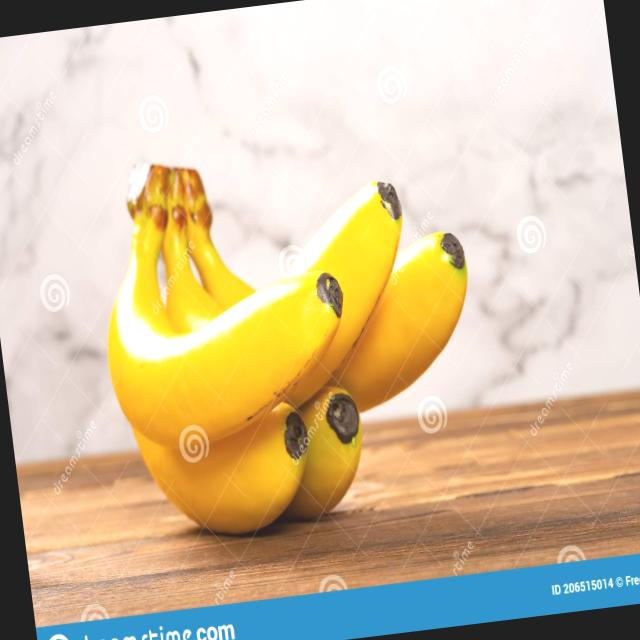Platano: (84, 124, 496, 546)
